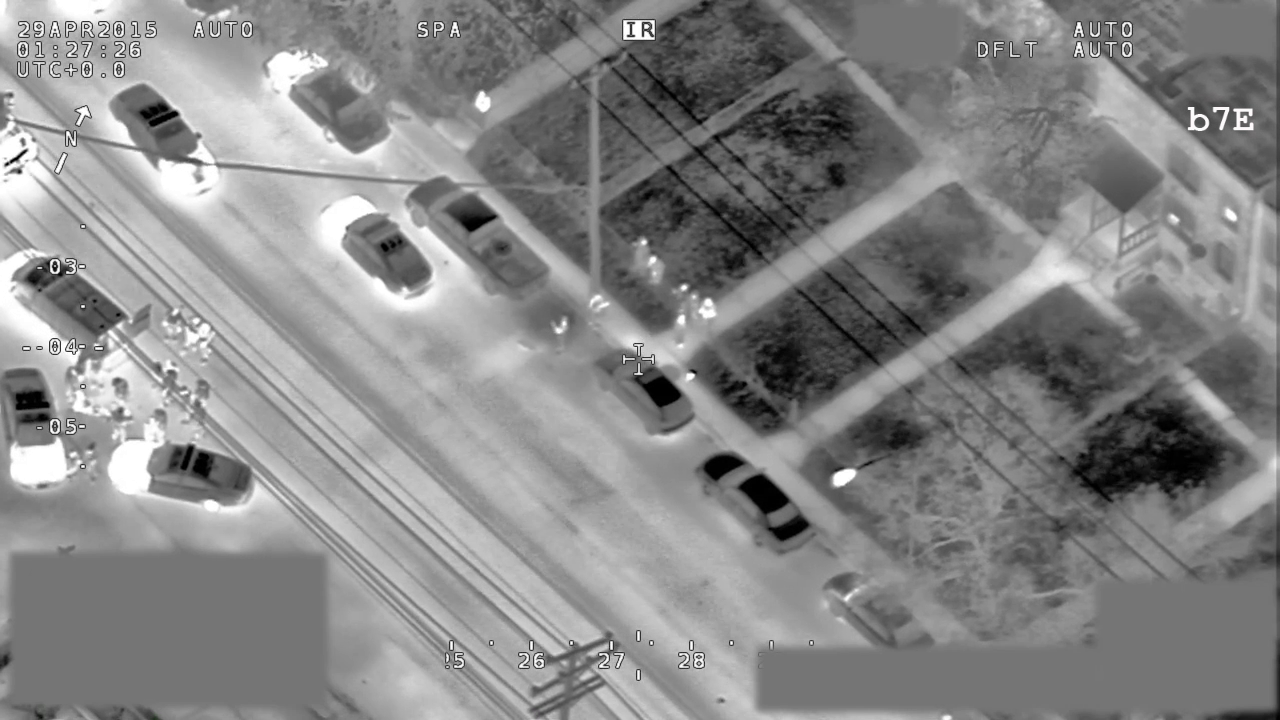vehicle: (1, 244, 157, 384), (402, 169, 554, 308), (690, 437, 816, 564), (258, 41, 395, 154), (105, 80, 225, 204), (315, 191, 438, 307), (107, 435, 255, 516), (591, 336, 700, 443), (821, 561, 930, 645), (1, 366, 68, 494)
